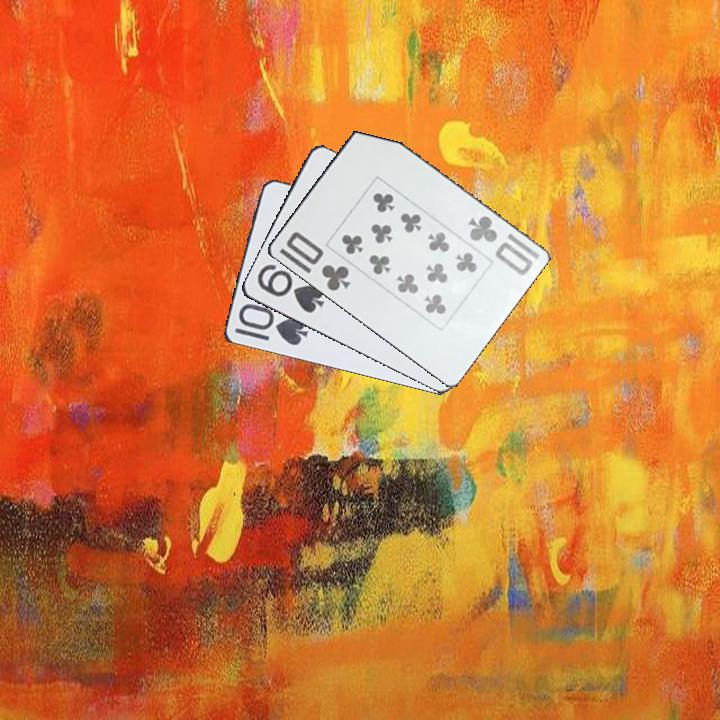6s: (253, 261, 327, 316)
Tc: (464, 208, 542, 281), (282, 228, 353, 294)
Ts: (231, 302, 311, 348)
